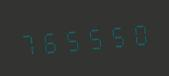five: (62, 22, 83, 56), (84, 20, 105, 54), (106, 18, 127, 52)
seven: (17, 25, 38, 59)
six: (39, 23, 60, 57)
zero: (128, 16, 149, 50)
